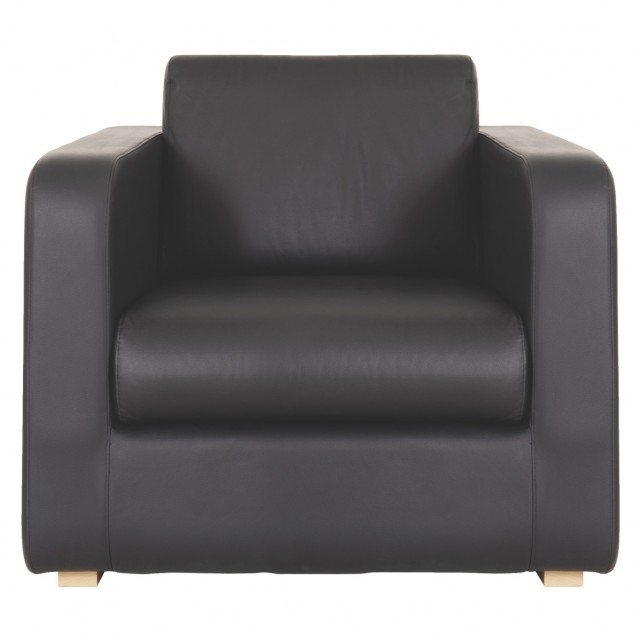chairs: (21, 50, 620, 587)
